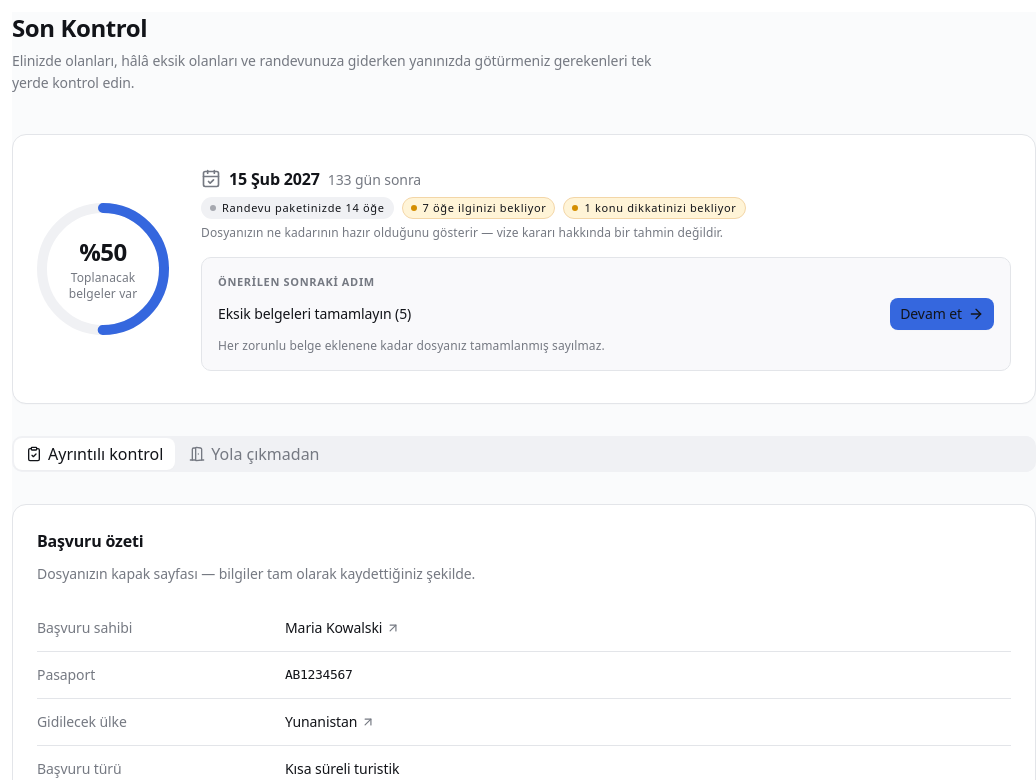
Test case: Final Review — departure mode › switches to the departure check from the selector
Click the radio button labelled "Yola çıkmadan" at (254, 454), box x1=177 y1=438 x2=332 y2=470
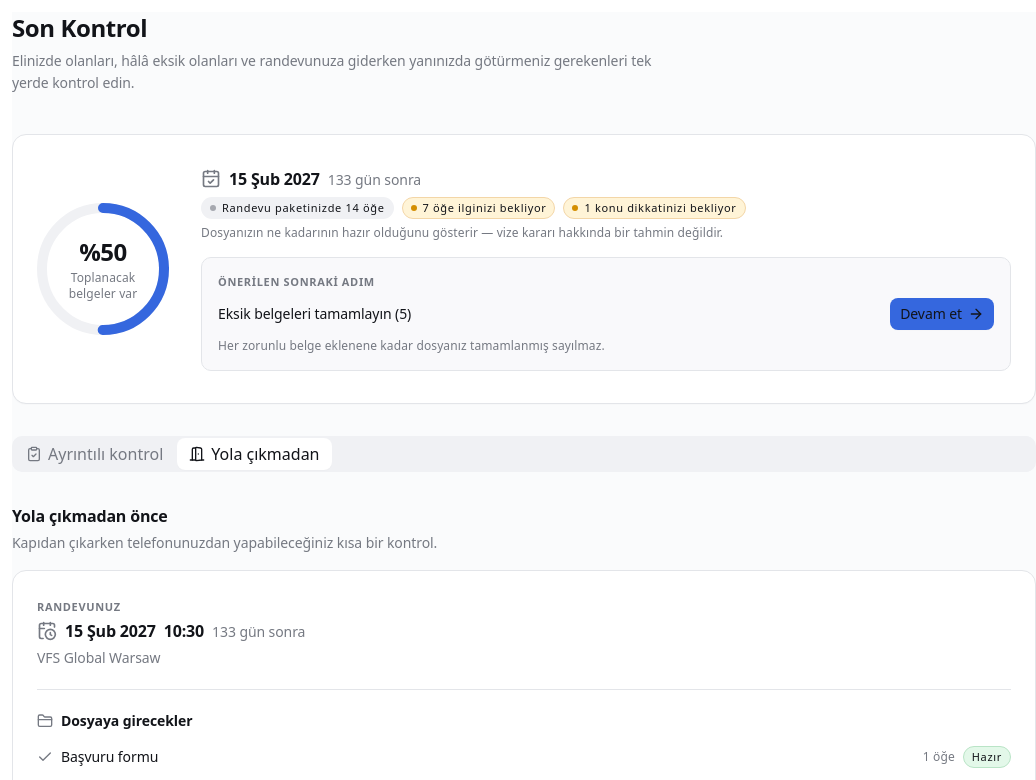
Now the heading "Yola çıkmadan önce" is shown, box x1=12 y1=505 x2=168 y2=527
